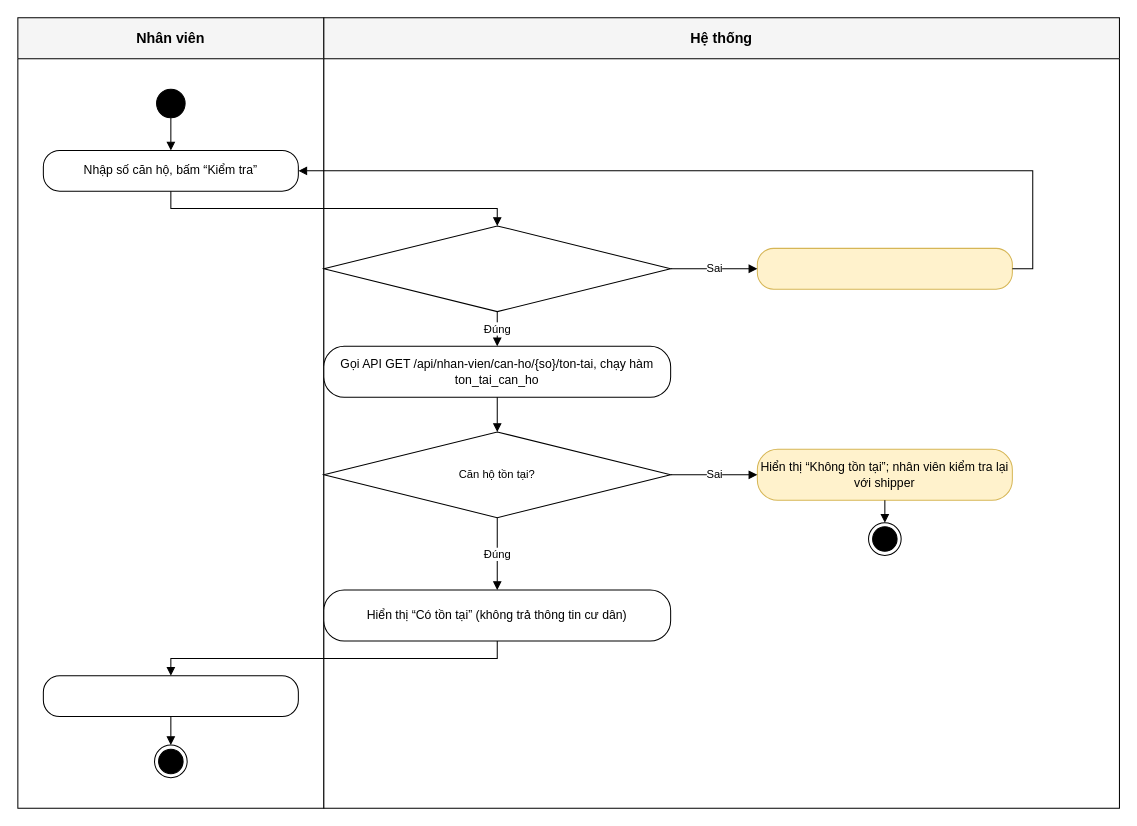
Image size: 1137x826. Some labels were removed from this diagram. The shapes that lost their labels are listed below. From the top down, each one's centre as x and y in pixels, then its label:
At point 497,268: "Số căn hộ không để trống?".
At point 884,268: "Yêu cầu nhập số căn hộ".
At point 170,696: "Xem kết quả".
